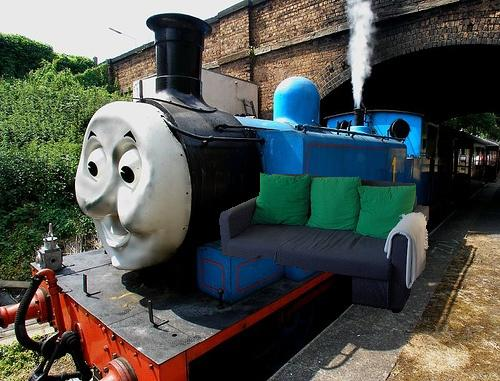tampered: (220, 173, 429, 313)
